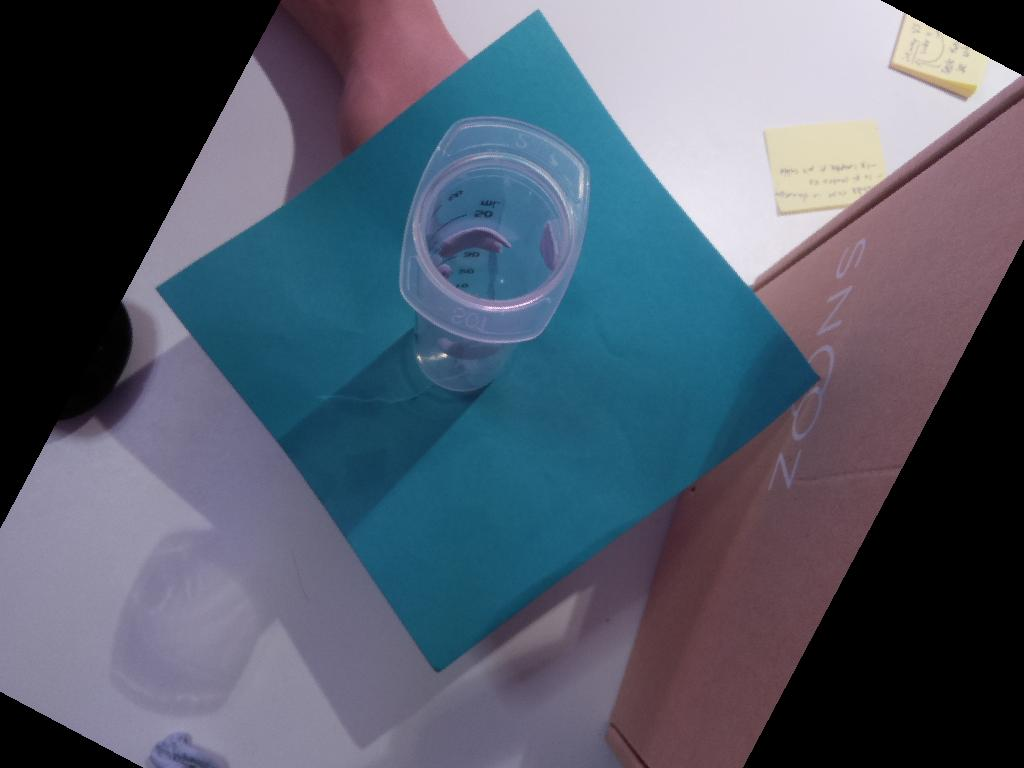dirty: (400, 115, 588, 343)
